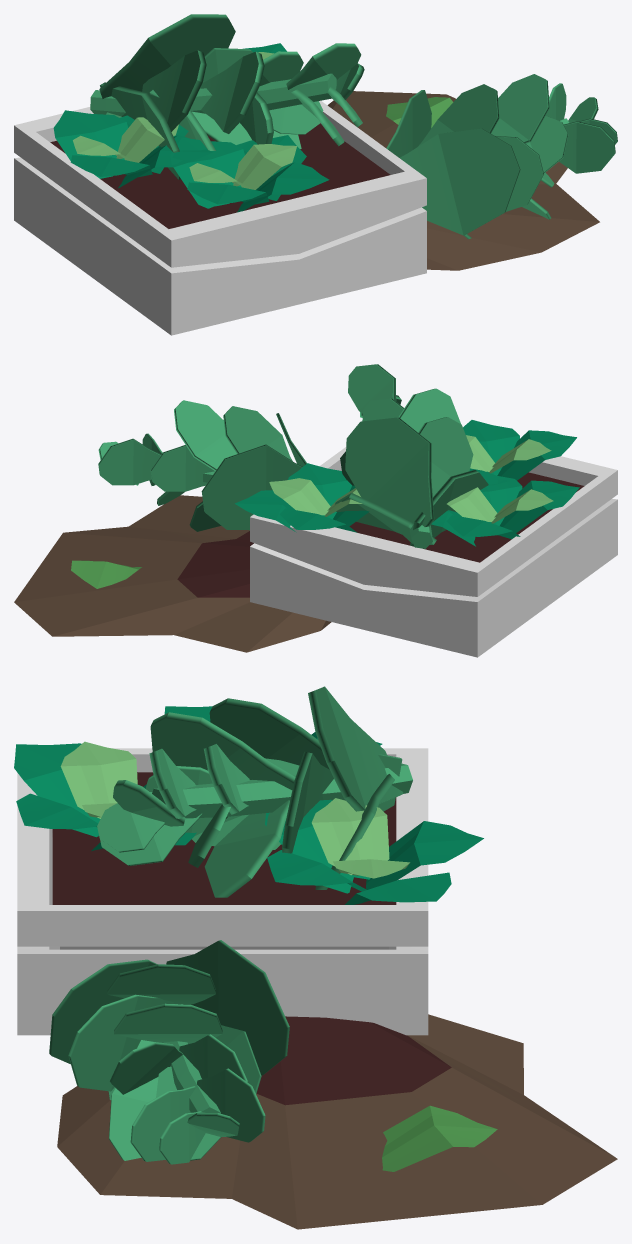
The model's file is Destroyed_plant_farm_006.fbx.
The picture shows the model from 3 angles, top to bottom: view 1: azimuth 30°, elevation 25°; view 2: azimuth 150°, elevation 25°; view 3: azimuth 270°, elevation 25°; orthographic projection. The views are drawn at different scales.
Parts seen in each view (by area): view 1: polySurface2197, polySurface2414, polySurface2415, polySurface2196, polySurface2854, polySurface2404, polySurface2198, polySurface2424, polySurface2861; view 2: polySurface2854, polySurface2197, polySurface2414, polySurface2196, polySurface2415, polySurface2424, polySurface2405, polySurface2404, polySurface2198, polySurface2861; view 3: polySurface2854, polySurface2415, polySurface2414, polySurface2196, polySurface2197, polySurface2405, polySurface2198, polySurface2404, polySurface2861, polySurface2199.
Boxes of the visible parts, x1,y1,x2,y2 form: polySurface2197: (14, 157, 426, 335); polySurface2414: (90, 14, 364, 179); polySurface2415: (386, 74, 617, 239); polySurface2196: (14, 100, 426, 267); polySurface2854: (327, 91, 599, 270); polySurface2404: (170, 135, 329, 212); polySurface2198: (50, 123, 390, 228); polySurface2424: (53, 110, 212, 188); polySurface2861: (386, 97, 453, 127); polySurface2854: (14, 495, 331, 652); polySurface2197: (250, 498, 617, 657); polySurface2414: (335, 364, 488, 548); polySurface2196: (250, 447, 617, 596); polySurface2415: (98, 400, 306, 531); polySurface2424: (431, 470, 579, 546); polySurface2405: (235, 463, 369, 532); polySurface2404: (463, 420, 576, 485); polySurface2198: (349, 472, 584, 562); polySurface2861: (71, 560, 141, 588); polySurface2854: (57, 1014, 617, 1229); polySurface2415: (49, 940, 289, 1164); polySurface2414: (97, 686, 412, 897); polySurface2196: (17, 748, 428, 946); polySurface2197: (17, 829, 428, 1035); polySurface2405: (265, 798, 483, 904); polySurface2198: (52, 772, 396, 904); polySurface2404: (14, 741, 196, 851); polySurface2861: (382, 1105, 497, 1171); polySurface2199: (60, 946, 388, 949).
Bounding box in the file's own units: 3.21 × 1.45 × 2.41.
